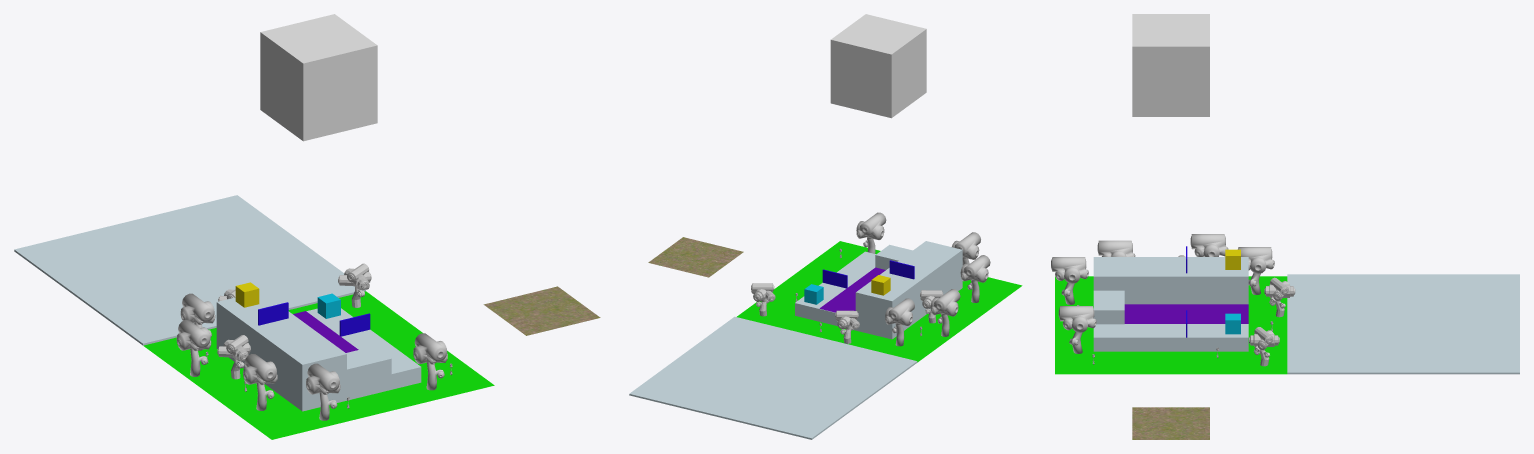
The model's file is Stage3.gltf.
The picture shows the model from 3 angles, left to right: view 1: azimuth 30°, elevation 25°; view 2: azimuth 150°, elevation 25°; view 3: azimuth 270°, elevation 25°; orthographic projection. The views are drawn at different scales.
Parts seen in each view (by area): view 1: 立方体, 仮, 仮床.001, 仮床, 床.008, 床.004, 床, 床.001, 床.003, 平面, 床.007, 床.006 (+12 smaller); view 2: 立方体, 仮, 仮床, 床.008, 床.001, 床.007, 床.004, 床.005, 仮床.001, 床, 床.006, 平面 (+13 smaller); view 3: 仮, 立方体, 仮床, 仮床.001, 仮床.002, 床.006, 床.007, 床.003, 床.008, 床.004, 床, 床.001 (+12 smaller).
Part boxes in pixels (x1,y1,x2,y2): 立方体: (260, 14, 377, 141); 仮: (143, 291, 494, 439); 仮床.001: (251, 316, 346, 395); 仮床: (216, 308, 421, 411); 床.008: (14, 231, 131, 282); 床.004: (57, 263, 173, 313); 床: (132, 244, 248, 293); 床.001: (89, 213, 205, 262); 床.003: (206, 226, 322, 275); 平面: (483, 286, 600, 335); 床.007: (163, 195, 279, 244); 床.006: (249, 258, 365, 309); 立方体: (830, 14, 926, 118); 仮: (737, 241, 1022, 362); 仮床: (795, 251, 962, 339); 床.008: (751, 398, 846, 439); 床.001: (690, 383, 785, 424); 床.007: (629, 368, 724, 409); 床.004: (786, 372, 882, 413); 床.005: (822, 346, 917, 387); 仮床.001: (884, 241, 962, 305); 床: (725, 357, 820, 397); 床.006: (700, 316, 795, 356); 平面: (648, 237, 743, 277); 仮: (1055, 276, 1287, 374); 立方体: (1132, 14, 1209, 116); 仮床: (1093, 324, 1248, 351); 仮床.001: (1093, 257, 1186, 304); 仮床.002: (1186, 257, 1248, 304); 床.006: (1287, 340, 1364, 374); 床.007: (1442, 340, 1519, 374); 床.003: (1365, 340, 1442, 374); 床.008: (1442, 274, 1519, 307); 床.004: (1365, 274, 1442, 307); 床: (1365, 307, 1442, 339); 床.001: (1442, 307, 1519, 339).
Bounding box in the file's own units: 50.84 × 42.06 × 60.5.
